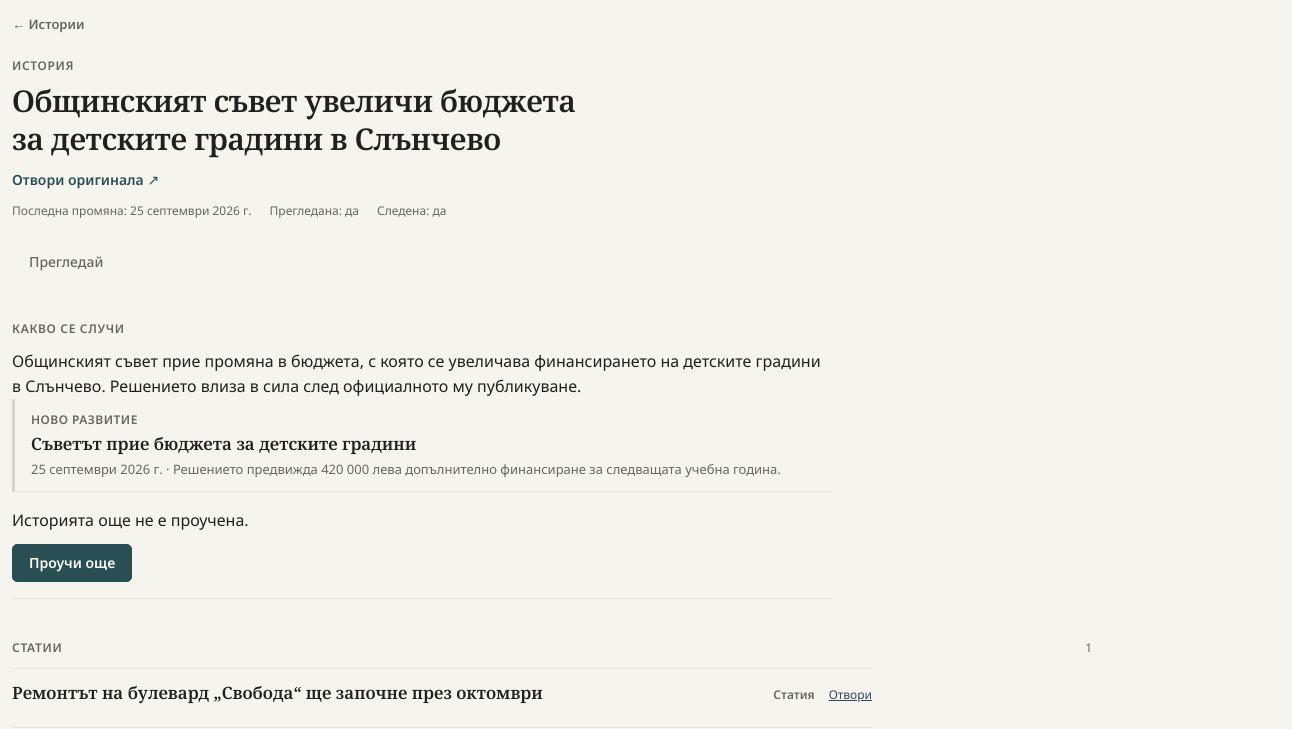
Test case: V1.2-G2.2 — an operational refusal is never an evidence statement › renders RESEARCH_QUOTA_EXHAUSTED as operational wording
Check: the heading "Общинският съвет увеличи бюджета за детските градини в Слънчево" is shown, box 12,80 -> 576,159
Click the button "Проучи още": (72, 563) 12,544 -> 132,582
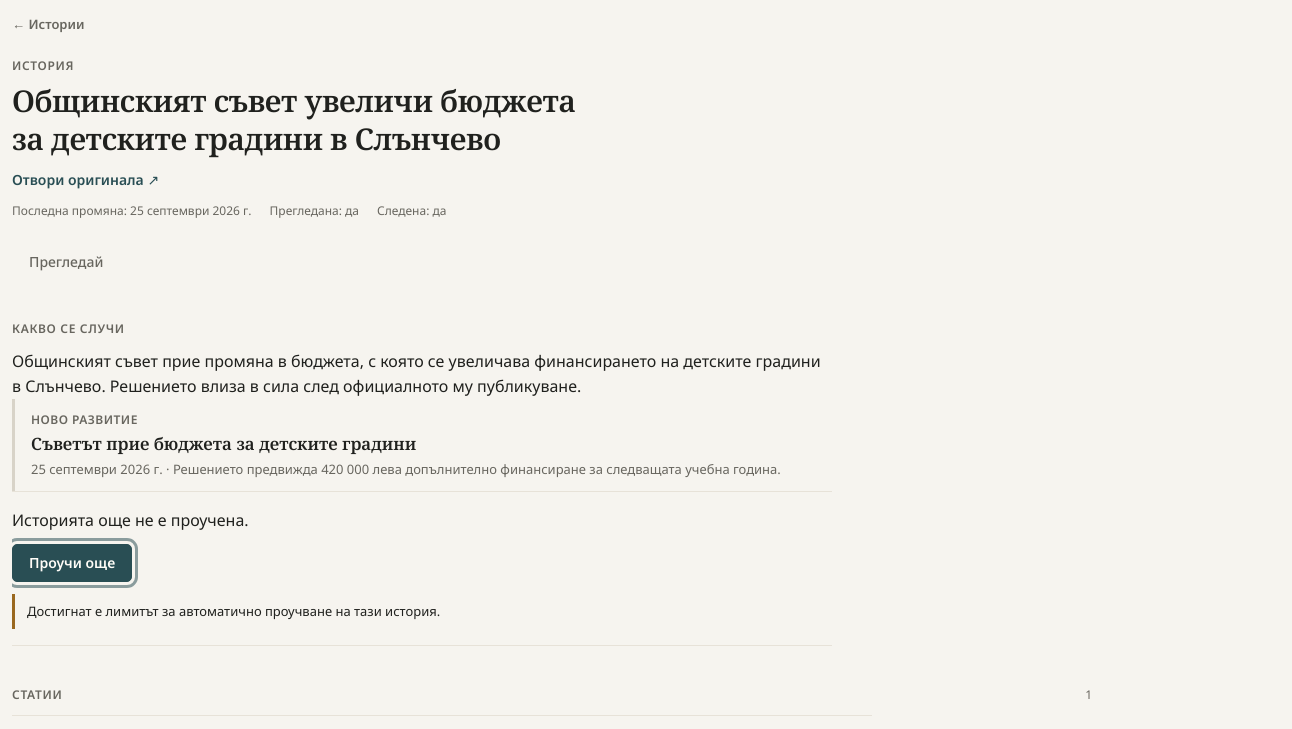
Check: the message reads "Достигнат е лимитът за автоматично проучване на тази история.", box 27,602 -> 440,620
